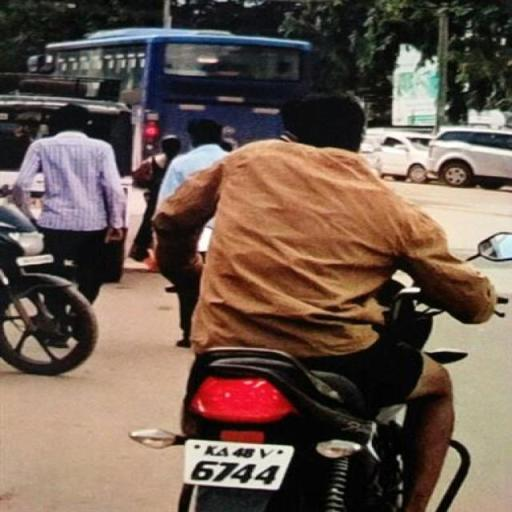using mobile: (275, 128, 303, 148)
